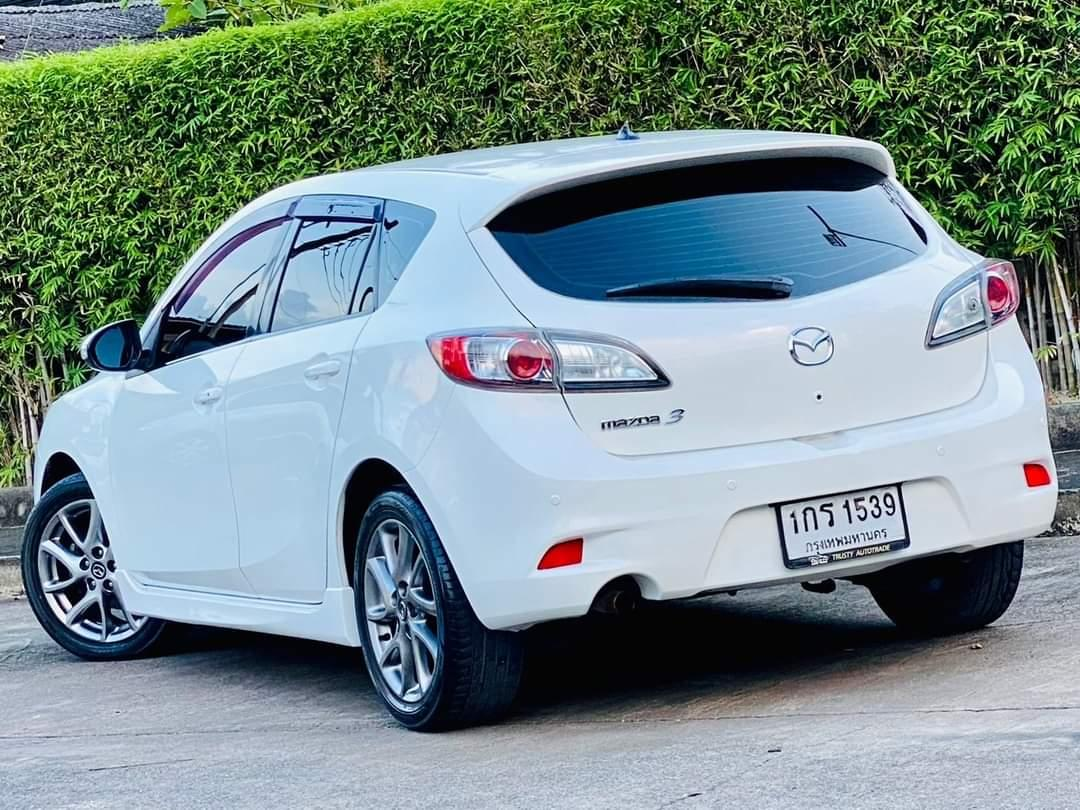license-plate: (774, 478, 915, 572)
